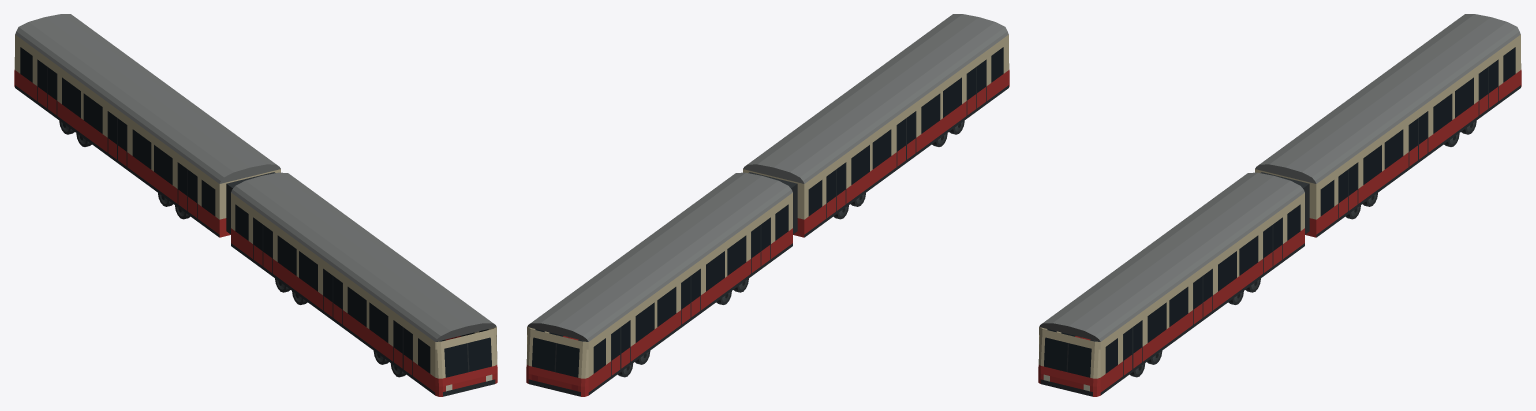
File: s_bahn_lowpoly_v1.glb
3 renders of one model, left to right at view 1: azimuth 30°, elevation 25°; view 2: azimuth 150°, elevation 25°; view 3: azimuth 330°, elevation 25°, orthographic.
Parts seen in each view (by area): view 1: s_bahn_lowpoly_v1; view 2: s_bahn_lowpoly_v1; view 3: s_bahn_lowpoly_v1.
Boxes of the visible parts, <box> form: s_bahn_lowpoly_v1: <box>14,14,497,396</box>; s_bahn_lowpoly_v1: <box>526,14,1009,396</box>; s_bahn_lowpoly_v1: <box>1038,14,1521,396</box>.
Bounding box in the file's own units: 3 × 3.6 × 36.
